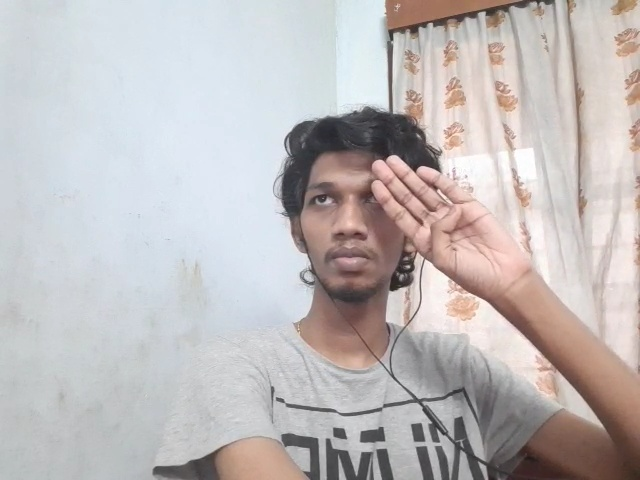Hello: (370, 154, 537, 306)
